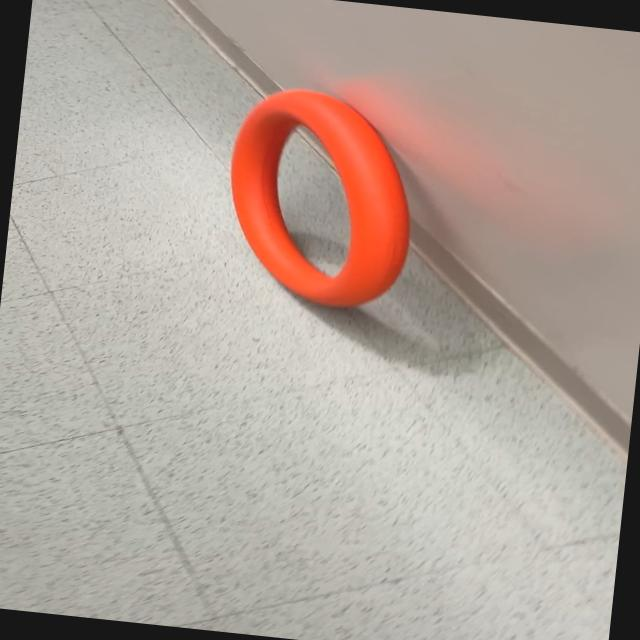note: (214, 80, 426, 316)
